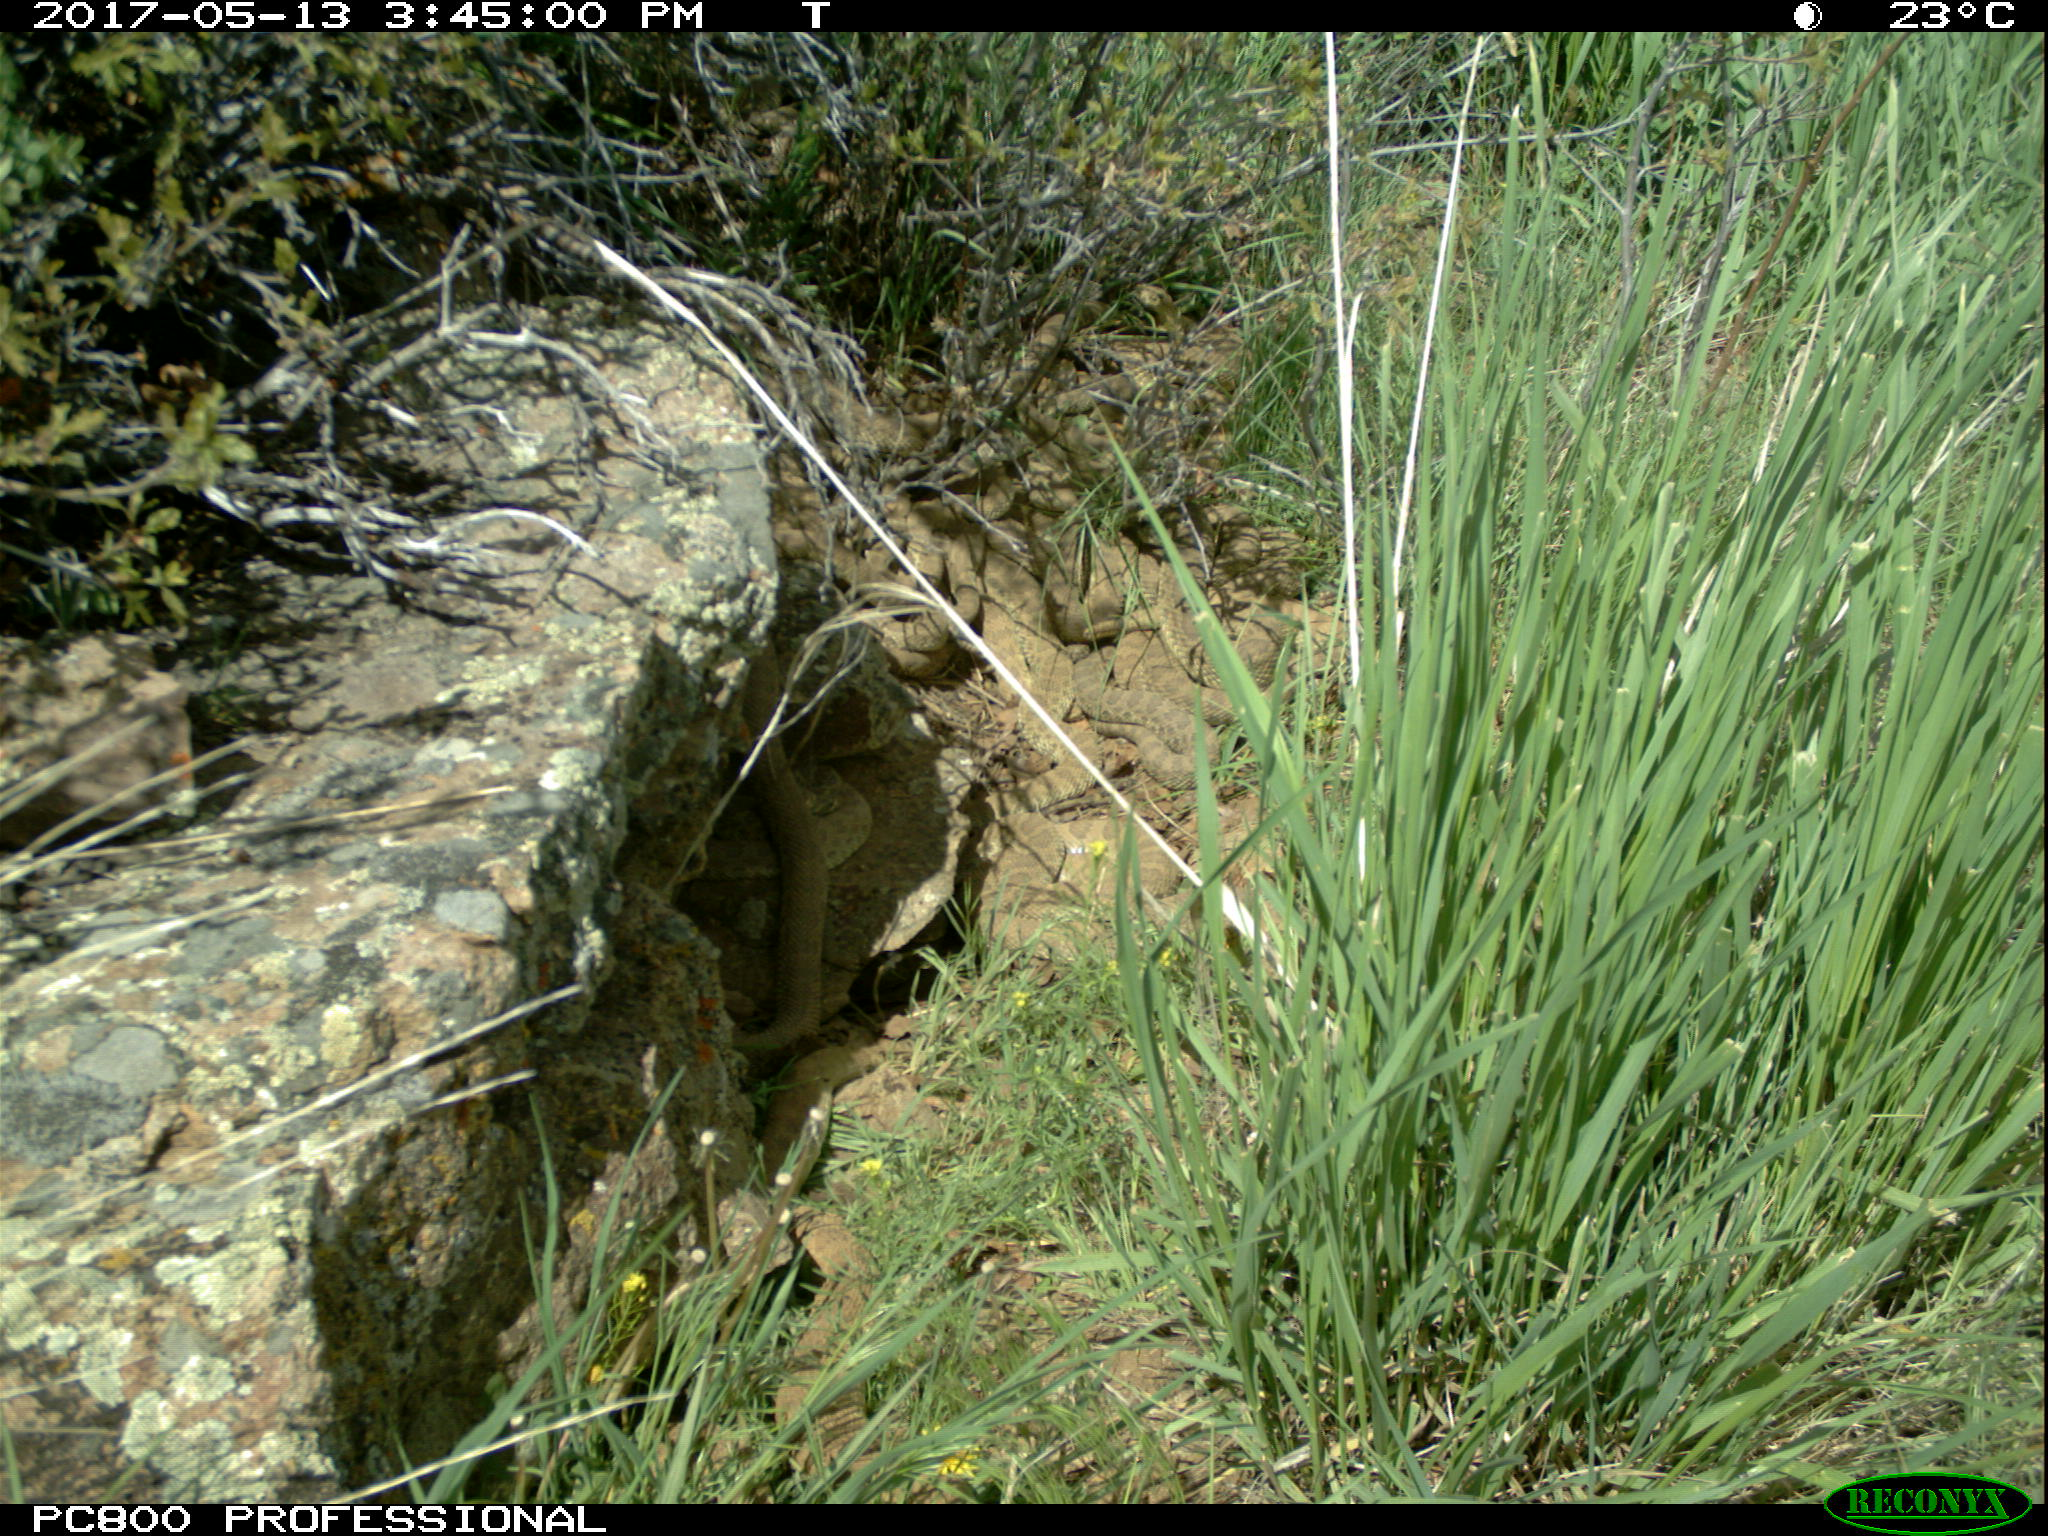snake: (768, 1044, 895, 1499), (1039, 531, 1297, 692), (740, 649, 832, 1065), (956, 536, 1085, 800), (980, 805, 1184, 960), (810, 526, 974, 674), (1076, 653, 1222, 792), (1039, 336, 1150, 471), (800, 774, 877, 865)
